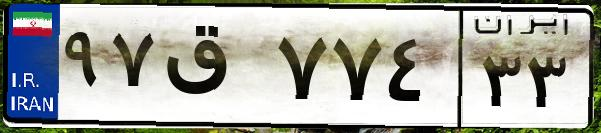3: (475, 38, 525, 113), (525, 38, 570, 115)
4: (385, 28, 445, 110)
7: (270, 28, 330, 110), (330, 28, 385, 110), (110, 28, 158, 98)
9: (57, 26, 110, 100)
ق: (158, 20, 270, 120)
